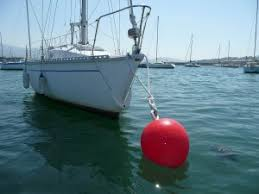buoy: (141, 119, 190, 168)
